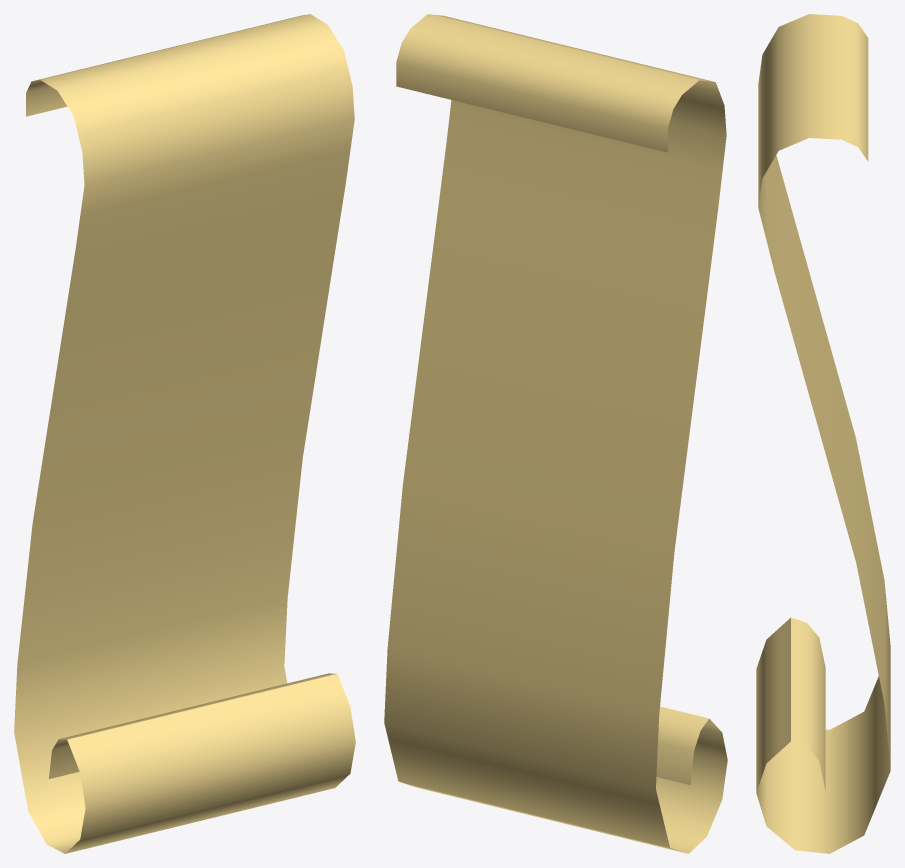
3 views of the same model, side by side, from view 1: azimuth 30°, elevation 25°; view 2: azimuth 150°, elevation 25°; view 3: azimuth 270°, elevation 25° (orthographic). The views are drawn at different scales.
Parts seen in each view (by area): view 1: Group_001; view 2: Group_001; view 3: Group_001.
Boxes of the visible parts, x1,y1,x2,y2 form: Group_001: (14,14,355,853); Group_001: (384,14,727,853); Group_001: (756,14,890,853).
Bounding box in the file's own units: 111 × 300 × 51.04.
